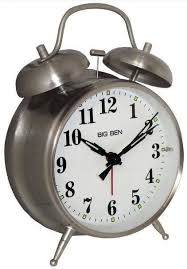alarm_clock: (9, 0, 183, 268), (9, 5, 183, 268)
